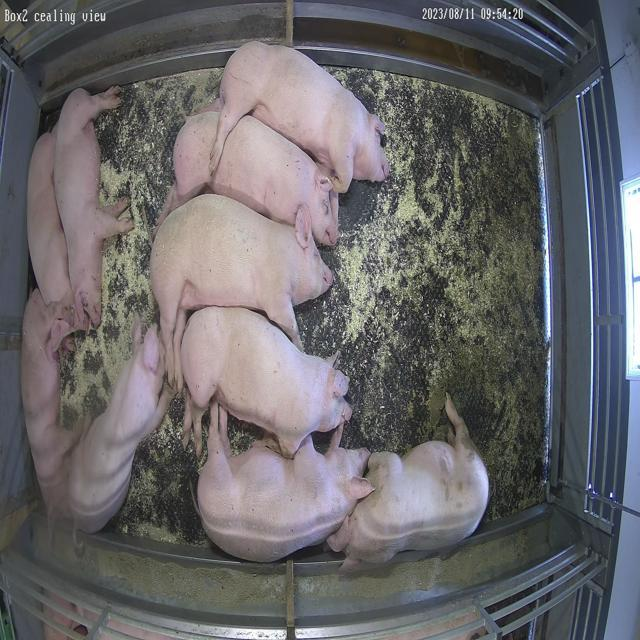Dirt: (425, 115, 548, 520)
Pig: (150, 185, 334, 388), (200, 39, 391, 191), (199, 404, 376, 564), (328, 396, 489, 570), (183, 306, 354, 458), (167, 107, 340, 241), (68, 326, 168, 534), (67, 327, 167, 534), (53, 86, 133, 330), (22, 289, 82, 518), (27, 132, 72, 306)
